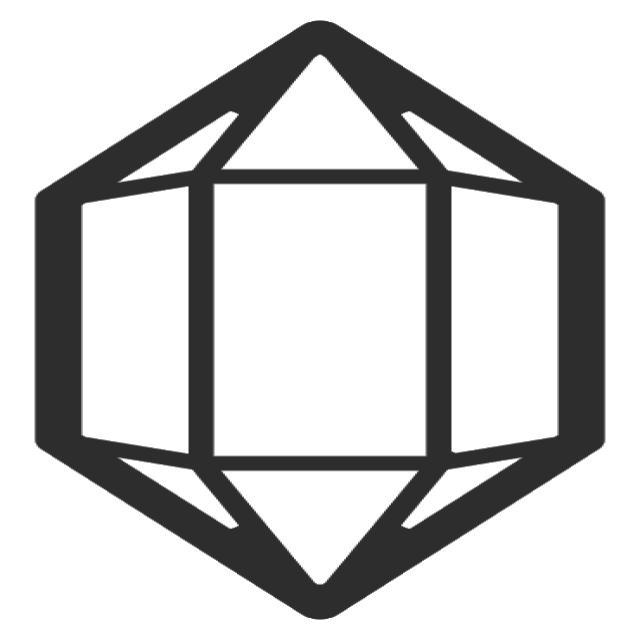crystal: (19, 15, 621, 633)
